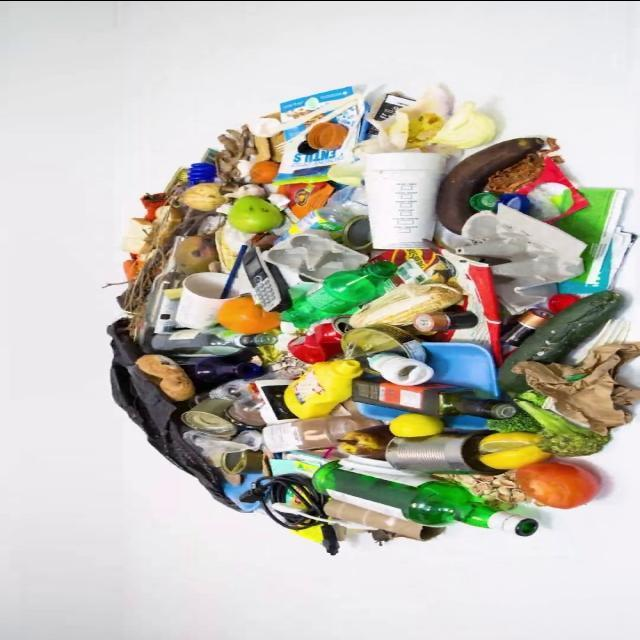Disposable: (364, 151, 446, 249)
E_waste: (240, 472, 339, 554), (242, 245, 291, 311), (367, 351, 433, 385), (502, 308, 553, 344), (413, 310, 478, 331)
Garbage: (109, 85, 638, 554)
Glass_bottle: (311, 460, 538, 535), (353, 378, 517, 419), (191, 363, 306, 404), (151, 325, 276, 355), (138, 270, 181, 350), (182, 356, 264, 384)
Plastic: (423, 341, 500, 398), (469, 191, 531, 212), (307, 122, 348, 149), (356, 402, 406, 420), (442, 414, 487, 430), (189, 161, 214, 185)
Plastic_Bag: (182, 429, 257, 466)
Plastic_Container: (284, 359, 362, 419), (262, 415, 358, 451), (222, 449, 262, 474)
Plastic_Straw: (221, 244, 249, 298)
Plastic_bottle: (280, 260, 396, 328), (278, 185, 369, 240)
Plastic_wraper: (373, 248, 501, 360), (553, 188, 626, 282), (516, 156, 589, 222), (278, 181, 334, 218)
Tin_box: (340, 324, 427, 361), (180, 399, 238, 435), (344, 214, 371, 249)
can: (287, 316, 348, 362)
